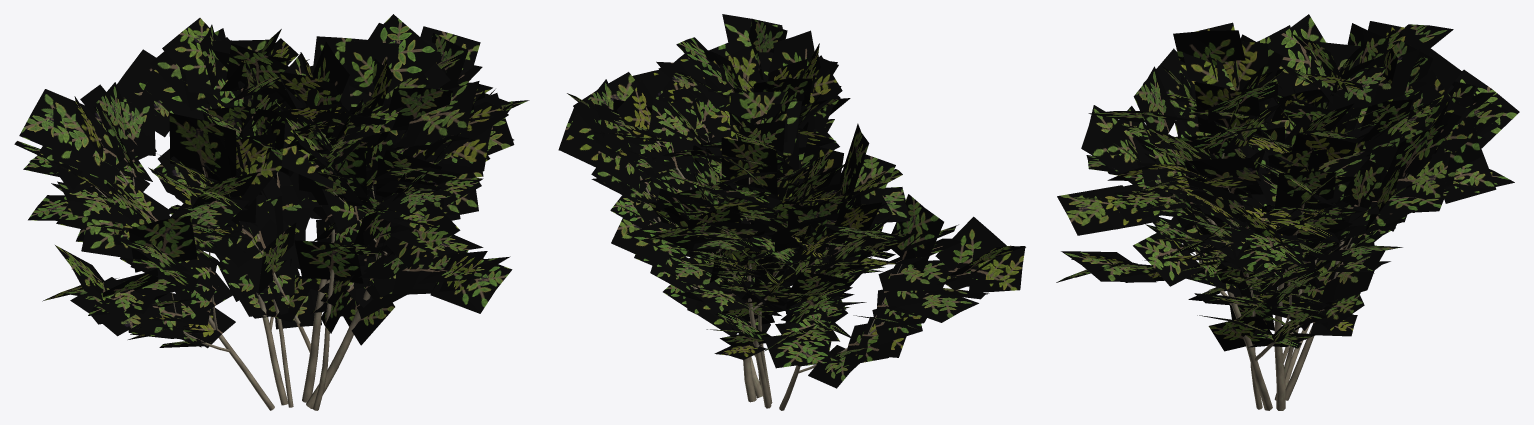
Rendered from bez_cerny_3.glb.
3 views of the same model, side by side, from view 1: azimuth 30°, elevation 25°; view 2: azimuth 150°, elevation 25°; view 3: azimuth 270°, elevation 25° (orthographic). The views are drawn at different scales.
Parts seen in each view (by area): view 1: bez_cerny_3; view 2: bez_cerny_3; view 3: bez_cerny_3.
Boxes of the visible parts, bbox=[...] form: bez_cerny_3: bbox=[14, 14, 529, 410]; bez_cerny_3: bbox=[558, 14, 1025, 410]; bez_cerny_3: bbox=[1056, 14, 1519, 410].
Bounding box in the file's own units: 5.28 × 3.91 × 4.34.
Materials: 2 (2 with a texture image).
